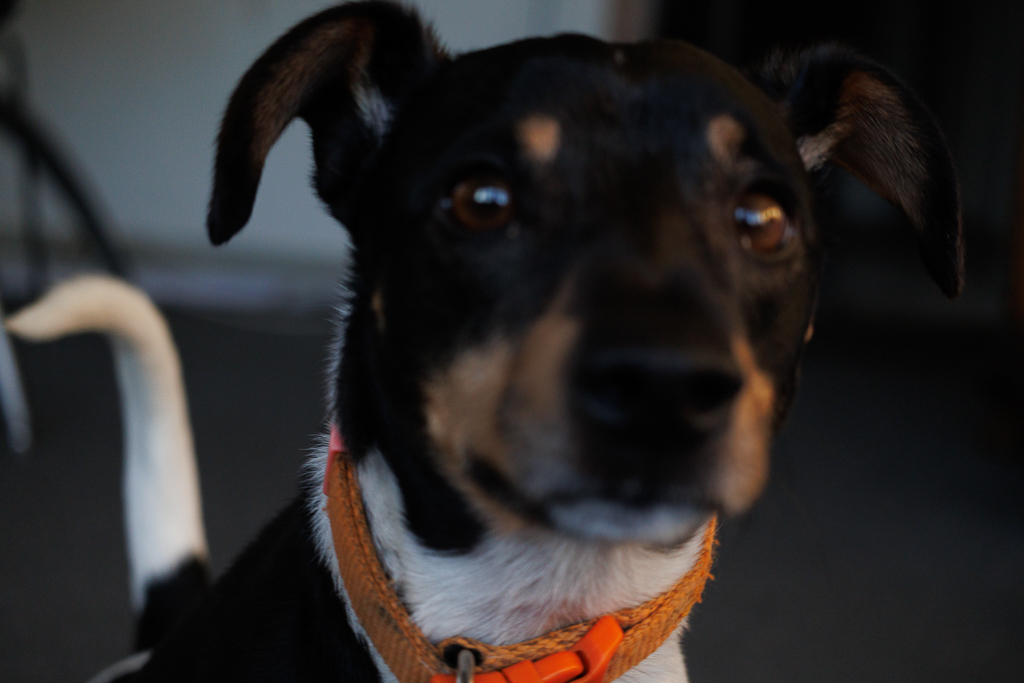Dog: (0, 0, 977, 683)
